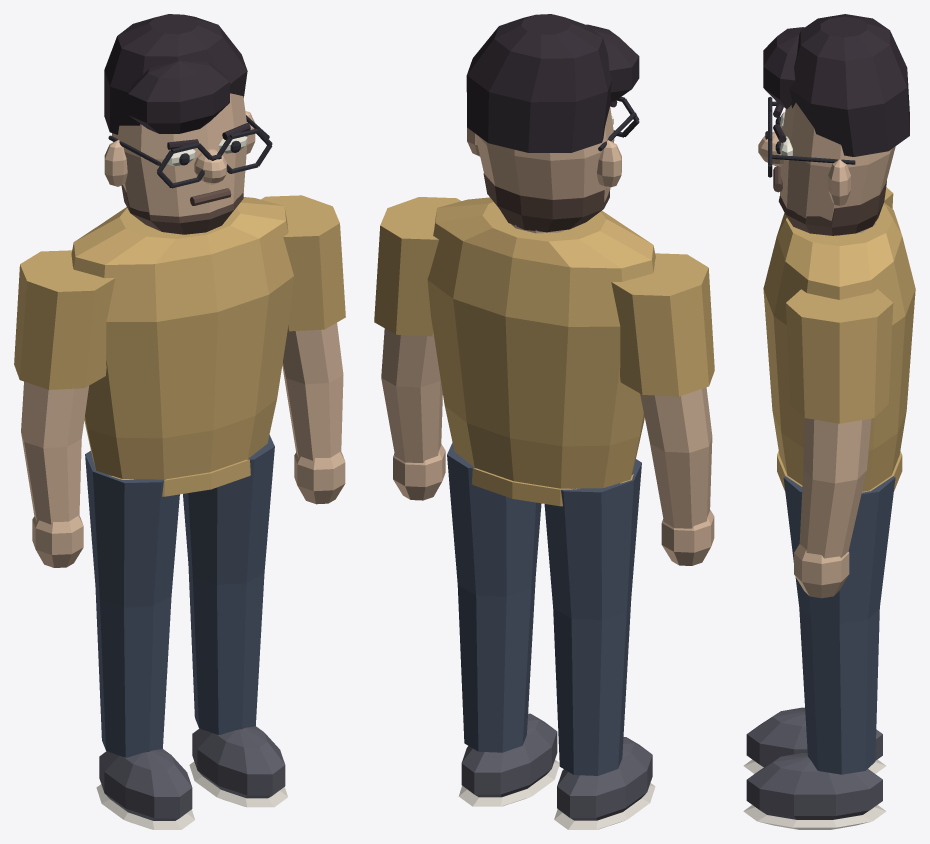
File: driver.glb
3 renders of one model, left to right at view 1: azimuth 30°, elevation 25°; view 2: azimuth 150°, elevation 25°; view 3: azimuth 270°, elevation 25°, orthographic. The views are drawn at different scales.
Visible parts, largest first — view 1: Torso, Leg, Leg.001, Sleeve, Hair, Face, Arm, Sleeve.001, Arm.001, Fringe, Shoe.001, Shoe (+8 smaller); view 2: Torso, Leg, Leg.001, Hair, Sleeve, Arm, Sleeve.001, Arm.001, Face, Shoe.001, Shoe, Beard (+7 smaller); view 3: Torso, Leg.001, Hair, Sleeve.001, Arm.001, Shoe.001, Face, Shoe, Beard, Fringe, Hand.001, Sole.001 (+4 smaller).
Boxes of the visible parts, x1=… form: Torso: x1=71, y1=197, x2=293, y2=479; Leg: x1=85, y1=450, x2=179, y2=757; Leg.001: x1=183, y1=435, x2=274, y2=734; Sleeve: x1=14, y1=250, x2=115, y2=389; Hair: x1=104, y1=14, x2=247, y2=134; Face: x1=112, y1=93, x2=247, y2=216; Arm: x1=21, y1=381, x2=88, y2=524; Sleeve.001: x1=261, y1=195, x2=345, y2=331; Arm.001: x1=282, y1=323, x2=343, y2=460; Fringe: x1=128, y1=61, x2=229, y2=133; Shoe.001: x1=192, y1=726, x2=285, y2=798; Shoe: x1=99, y1=749, x2=192, y2=820; Torso: x1=427, y1=197, x2=655, y2=488; Leg: x1=544, y1=459, x2=641, y2=775; Leg.001: x1=447, y1=442, x2=541, y2=752; Hair: x1=466, y1=14, x2=611, y2=152; Sleeve: x1=611, y1=253, x2=714, y2=396; Arm: x1=640, y1=387, x2=712, y2=528; Sleeve.001: x1=374, y1=197, x2=461, y2=336; Arm.001: x1=381, y1=328, x2=442, y2=462; Face: x1=475, y1=106, x2=614, y2=202; Shoe.001: x1=461, y1=713, x2=557, y2=797; Shoe: x1=557, y1=737, x2=652, y2=820; Beard: x1=483, y1=173, x2=609, y2=232; Torso: x1=763, y1=202, x2=915, y2=491; Leg.001: x1=783, y1=476, x2=895, y2=774; Hair: x1=789, y1=14, x2=909, y2=156; Sleeve.001: x1=786, y1=289, x2=893, y2=423; Arm.001: x1=799, y1=417, x2=871, y2=558; Shoe.001: x1=746, y1=753, x2=882, y2=819; Face: x1=780, y1=103, x2=895, y2=220; Shoe: x1=746, y1=707, x2=882, y2=767; Beard: x1=778, y1=181, x2=886, y2=235; Fringe: x1=763, y1=27, x2=804, y2=108; Hand.001: x1=794, y1=544, x2=849, y2=598; Sole.001: x1=743, y1=805, x2=886, y2=829.
Size of the model in its own units: 0.828 by 1.9 by 0.385.
